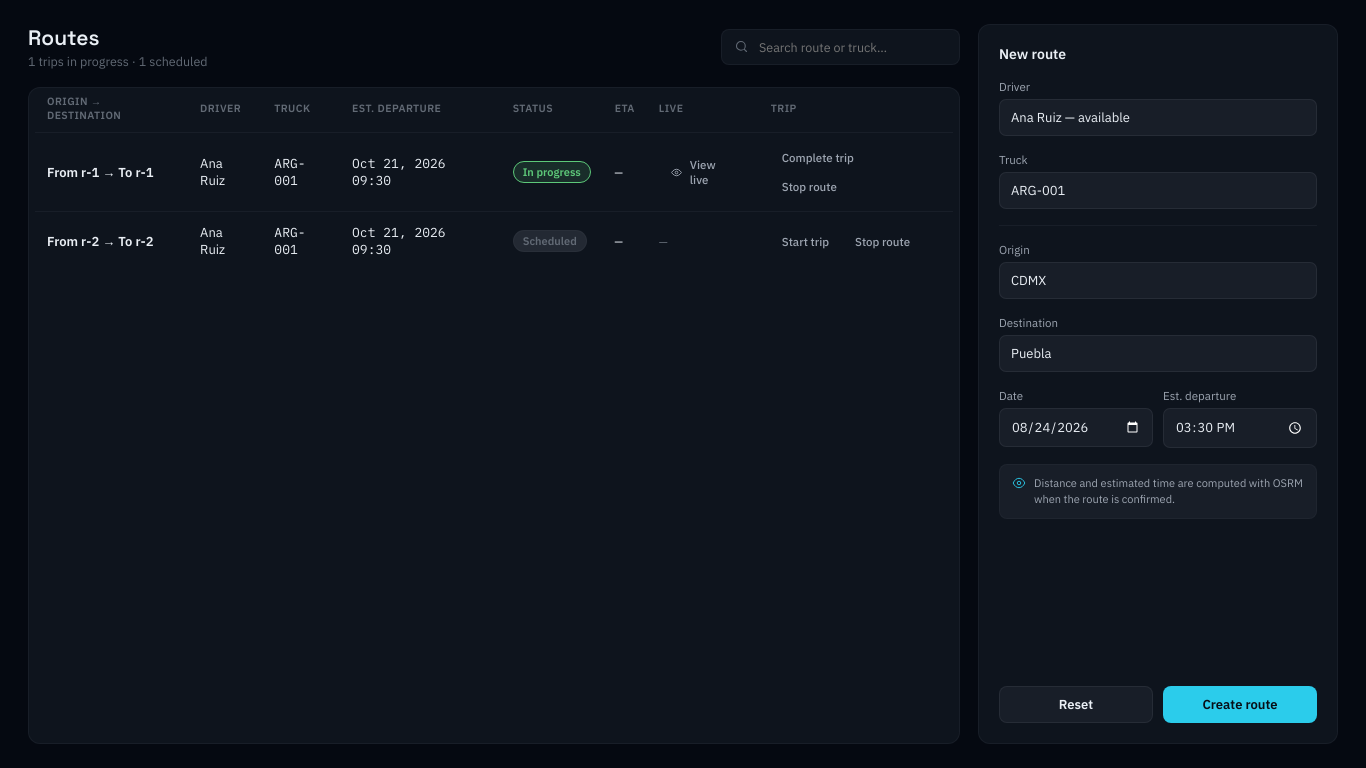
TravelManagement trips › refuses to start a second trip on a truck that already has one in progress
Click the button "Start trip".
click(805, 241)  # box [771,228,840,254]
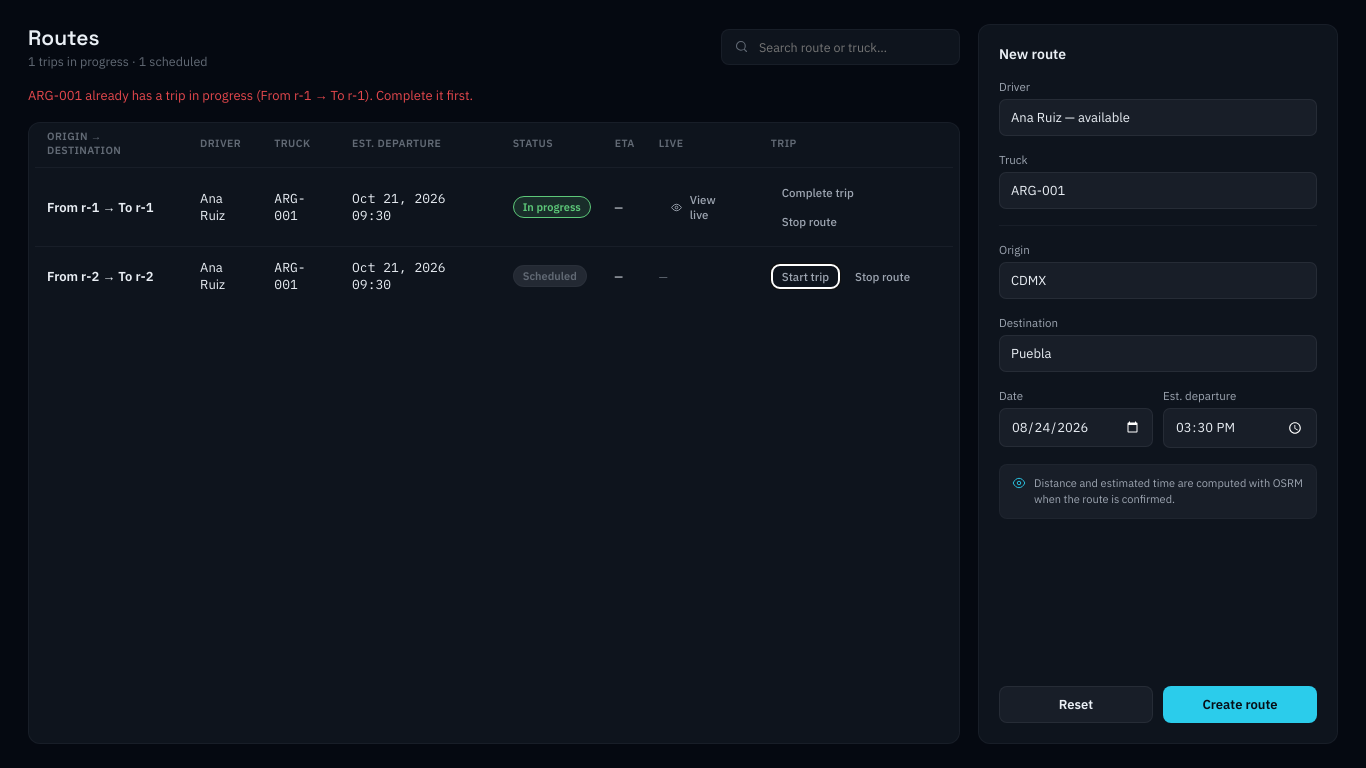
Check: the message shows "ARG-001 already has a trip in progress", box [28,87,473,104]
